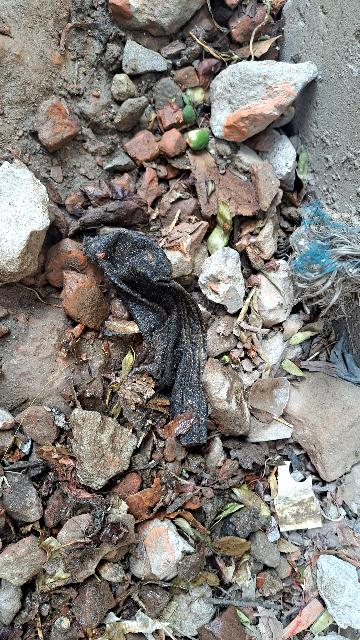mask: (83, 221, 222, 455)
